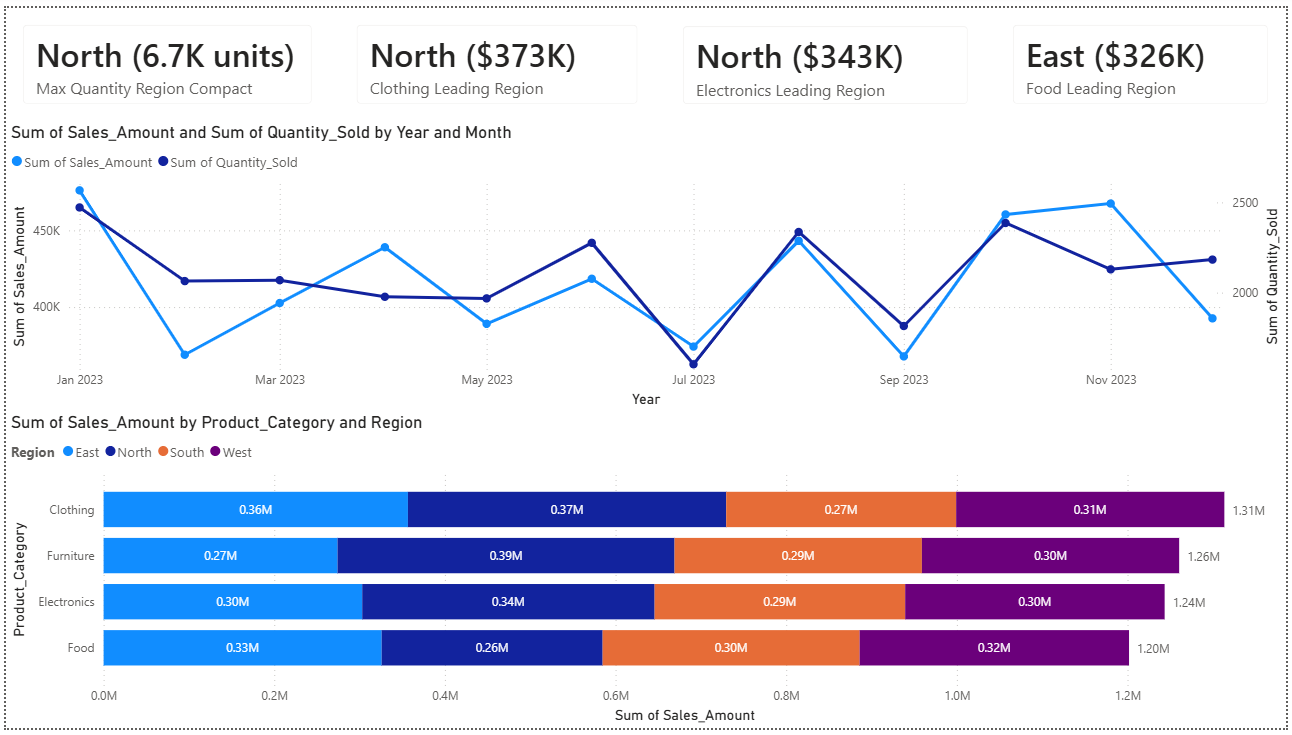

This screenshot's page, from the dashboard's own definition file:
{"tool":"powerbi","page":{"name":"Page 1","canvas":[1280,720],"ordinal":0},"visuals":[{"type":"lineChart","fields":{"Category":["sales_data_1.Sale_Date.Variation.Date Hierarchy.Year","sales_data_1.Sale_Date.Variation.Date Hierarchy.Month"],"Y":["Sum(sales_data_1.Sales_Amount)"],"Y2":["Sum(sales_data_1.Quantity_Sold)"]},"box":[0,113.7,1279.5,290.4],"z":0},{"type":"barChart","fields":{"Category":["sales_data_1.Product_Category"],"Series":["sales_data_1.Region"],"Y":["Sum(sales_data_1.Sales_Amount)"]},"box":[0,404.1,1279.5,316.4],"z":1000},{"type":"cardVisual","fields":{"Data":["sales_data_1.Clothing Leading Region"]},"box":[334.2,0,315.1,113.7],"z":2000},{"type":"cardVisual","fields":{"Data":["sales_data_1.Furniture Leading Region"]},"box":[0,0,323.3,113.7],"z":3000},{"type":"cardVisual","fields":{"Data":["sales_data_1.Electronics Leading Region"]},"box":[660.3,1.4,319.2,112.3],"z":4000},{"type":"cardVisual","fields":{"Data":["sales_data_1.Food Leading Region"]},"box":[990.4,0,289,113.7],"z":5000}]}

Visuals, with their boxes in screenshot pixels (x1, y1, x2, y2), scaled from the page's 1280x720 canvas onto the 1292x735 screenshot:
lineChart - sales_data_1.Sale_Date.Variation.Date Hierarchy.Year x sales_data_1.Sale_Date.Variation.Date Hierarchy.Month: region(0, 116, 1291, 413)
barChart - sales_data_1.Product_Category x sales_data_1.Region: region(0, 413, 1291, 734)
cardVisual - sales_data_1.Clothing Leading Region: region(337, 0, 655, 116)
cardVisual - sales_data_1.Furniture Leading Region: region(0, 0, 326, 116)
cardVisual - sales_data_1.Electronics Leading Region: region(666, 1, 989, 116)
cardVisual - sales_data_1.Food Leading Region: region(1000, 0, 1291, 116)
